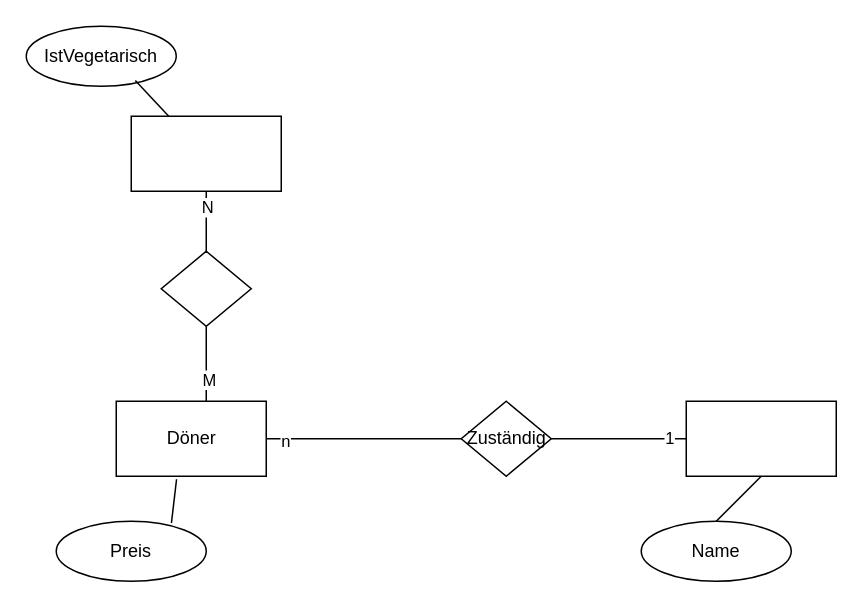
The diagram is 863 pixels wide and 608 high, and some of its shapes have lost their labels. The centre of each missing label's shape, as x and y in pixels:
Enthält: point (205, 288)
Mitarbeiter: point (760, 438)
Zutaten: point (205, 153)
